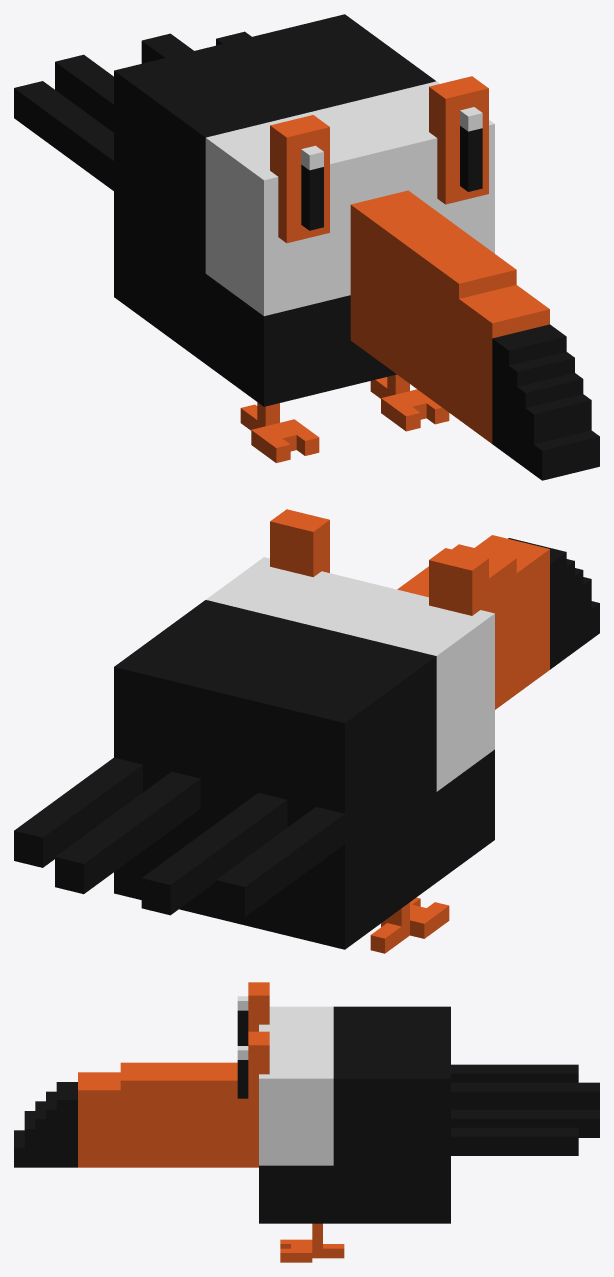
File: Toucan.obj
3 renders of one model, top to bottom at view 1: azimuth 30°, elevation 25°; view 2: azimuth 150°, elevation 25°; view 3: azimuth 270°, elevation 25°, orthographic. The views are drawn at different scales.
Parts seen in each view (by area): view 1: Toucan; view 2: Toucan; view 3: Toucan.
Boxes of the visible parts, x1=… form: Toucan: x1=14, y1=14, x2=599, y2=480; Toucan: x1=14, y1=509, x2=599, y2=953; Toucan: x1=14, y1=982, x2=599, y2=1262.
Size of the model in its own units: 16 by 23 by 55.
Materials: 1 (1 with a texture image).
